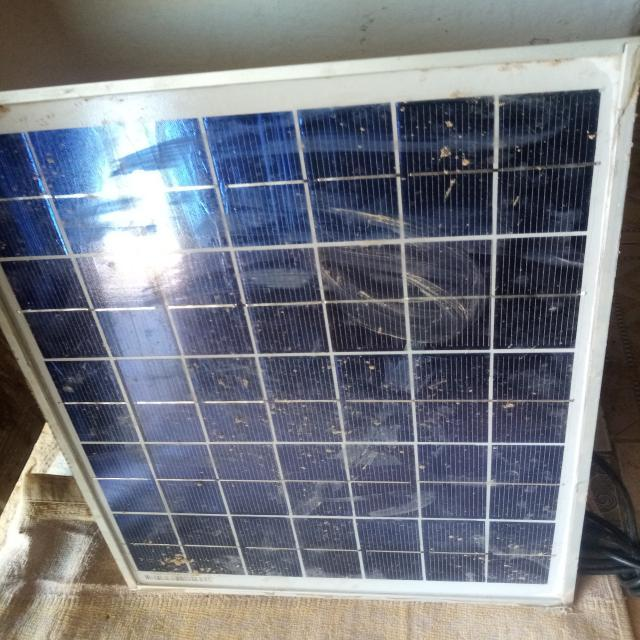faulty: (0, 37, 640, 606)
